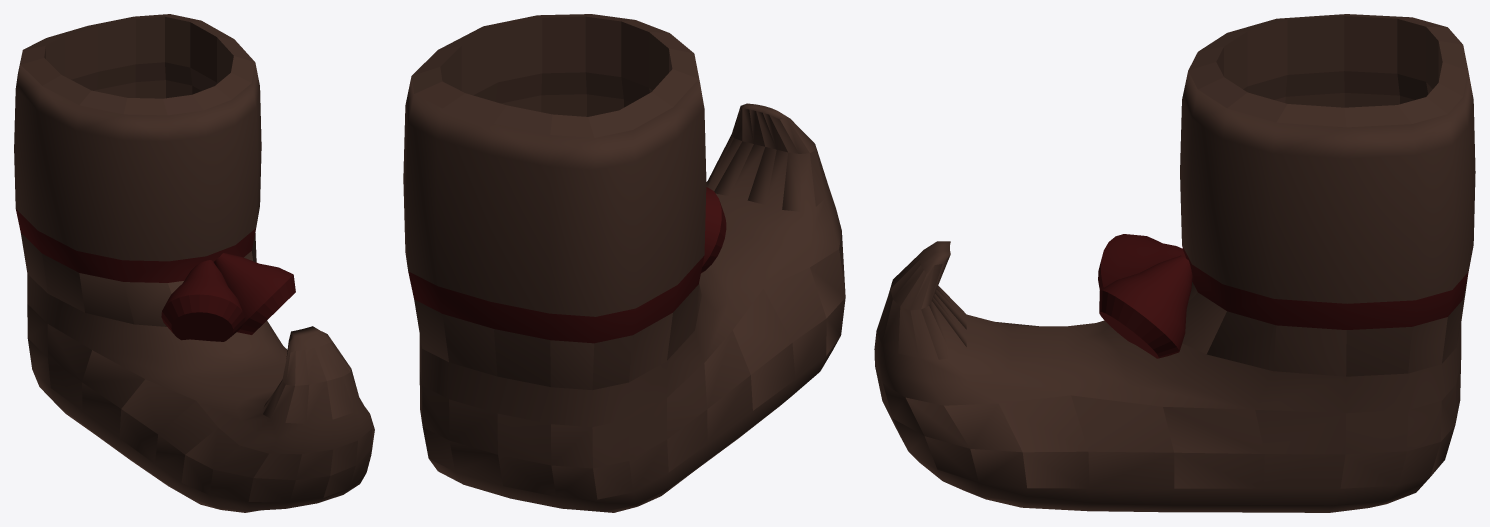
The model's file is Nutukkaat.FBX.
The picture shows the model from 3 angles, left to right: view 1: azimuth 30°, elevation 25°; view 2: azimuth 150°, elevation 25°; view 3: azimuth 270°, elevation 25°; orthographic projection. The views are drawn at different scales.
Parts seen in each view (by area): view 1: Nutukkaat; view 2: Nutukkaat; view 3: Nutukkaat.
Boxes of the visible parts, x1=… form: Nutukkaat: x1=14, y1=14, x2=374, y2=512; Nutukkaat: x1=403, y1=14, x2=845, y2=512; Nutukkaat: x1=874, y1=14, x2=1475, y2=512.
Size of the model in its own units: 0.1968 by 0.3133 by 0.4178.
